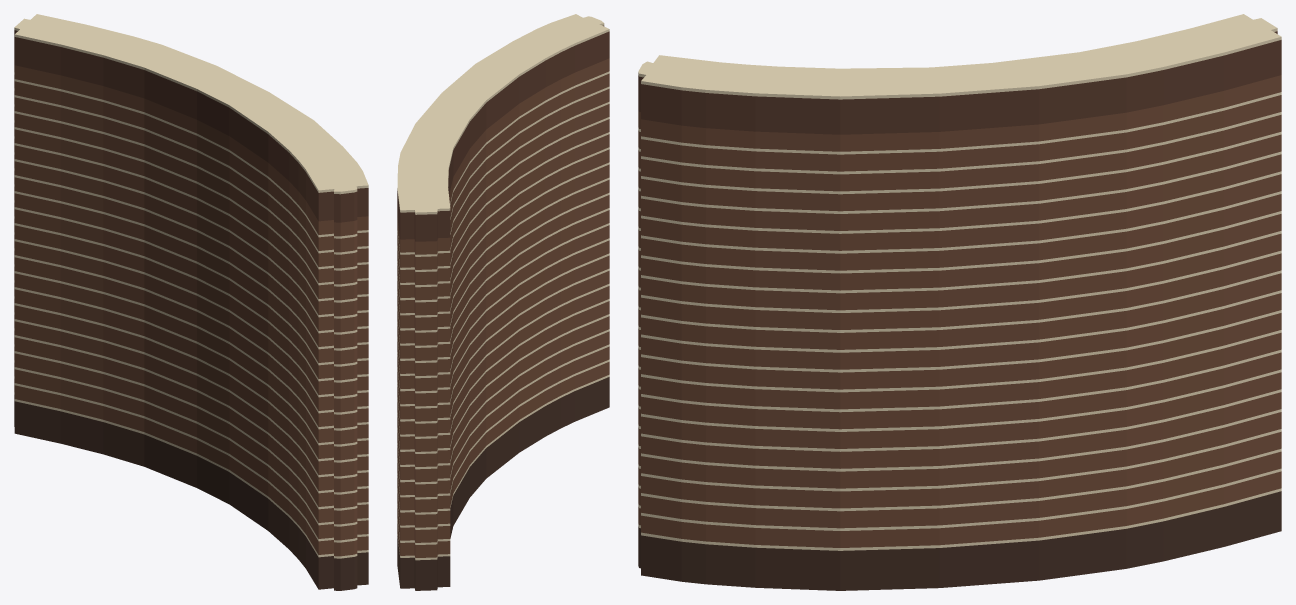
The model's file is wynn.glb.
3 views of the same model, side by side, from view 1: azimuth 30°, elevation 25°; view 2: azimuth 150°, elevation 25°; view 3: azimuth 270°, elevation 25° (orthographic). The views are drawn at different scales.
Visible parts, largest first — view 1: Tower; view 2: Tower; view 3: Tower.
Boxes of the visible parts, x1,y1,x2,y2 form: Tower: (14, 14, 368, 590); Tower: (397, 14, 609, 590); Tower: (638, 14, 1281, 590).
Bounding box in the file's own units: 69.31 × 194 × 228.
